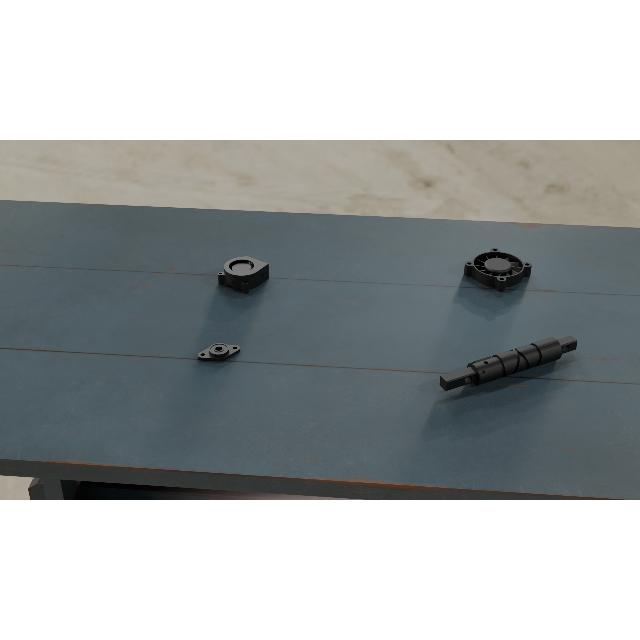Pieza1: (436, 328, 582, 400)
Pieza2: (194, 338, 243, 366)
Pieza3: (215, 253, 269, 295)
Pieza4: (462, 246, 534, 294)
